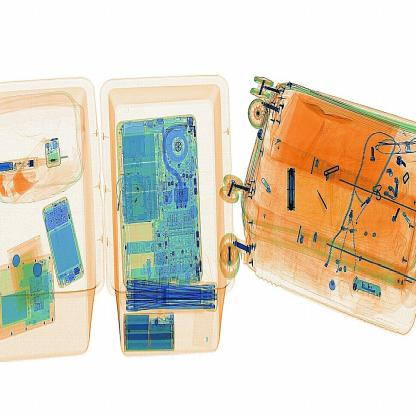scissors: (286, 168, 298, 215)
